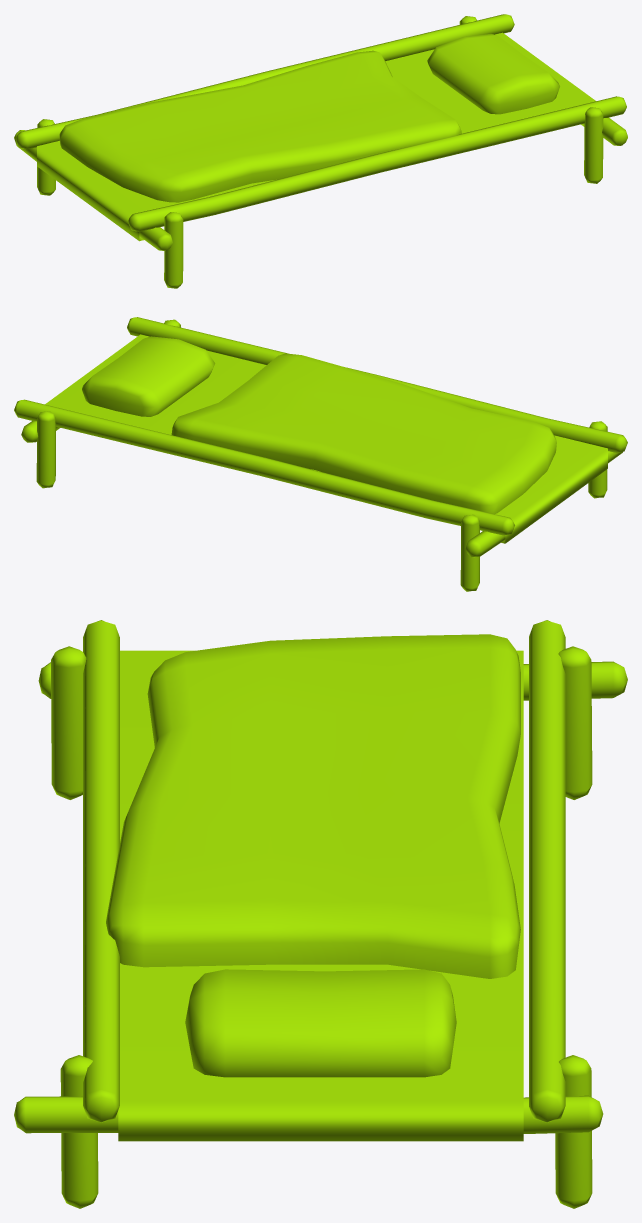
Rendered from Mode_lit.fbx.
3 renders of one model, top to bottom at view 1: azimuth 30°, elevation 25°; view 2: azimuth 150°, elevation 25°; view 3: azimuth 270°, elevation 25°, orthographic. The views are drawn at different scales.
Visible parts, largest first — view 1: lit; view 2: lit; view 3: lit.
Part boxes in pixels (left/top/right/bottom): lit: left=14, top=14, right=627, bottom=288; lit: left=14, top=317, right=627, bottom=591; lit: left=14, top=620, right=627, bottom=1208.
Bounding box in the file's own units: 182 × 31.7 × 98.55.
